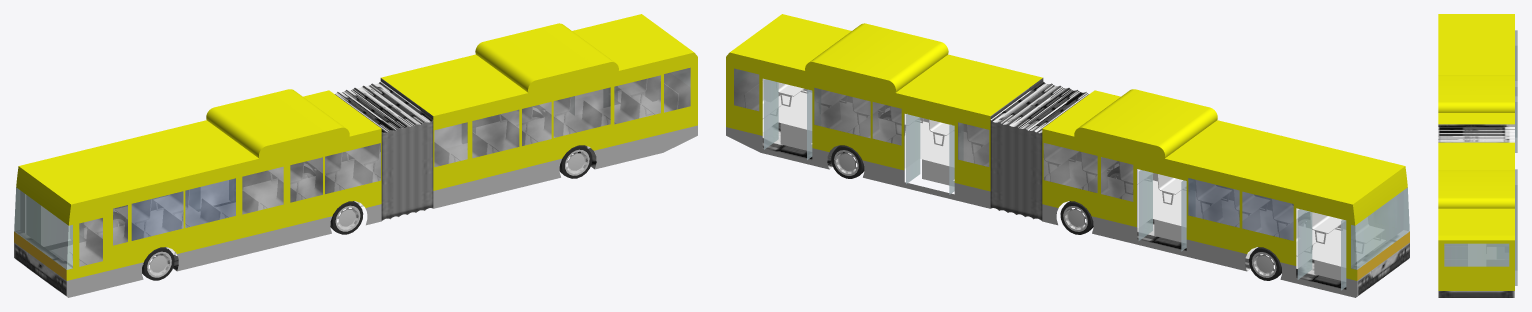
The picture shows the model from 3 angles, left to right: view 1: azimuth 30°, elevation 25°; view 2: azimuth 150°, elevation 25°; view 3: azimuth 270°, elevation 25°; orthographic projection. The views are drawn at different scales.
Parts seen in each view (by area): view 1: mesh1-geometry-0, mesh1-geometry-2, mesh1-geometry-1, mesh1-geometry-4, mesh28-geometry-0, mesh1-geometry-3, mesh1-geometry-5, mesh43-geometry-0, mesh42-geometry-0, mesh44-geometry-0, mesh34-geometry-0, mesh41-geometry-0 (+18 smaller); view 2: mesh1-geometry-0, mesh1-geometry-2, mesh1-geometry-1, mesh28-geometry-0, mesh1-geometry-4, mesh29-geometry-0, mesh1-geometry-3, mesh1-geometry-5, mesh30-geometry-0, mesh31-geometry-0, mesh33-geometry-0, mesh39-geometry-0 (+19 smaller); view 3: mesh1-geometry-0, mesh1-geometry-1, mesh1-geometry-5, mesh29-geometry-0, mesh28-geometry-0, mesh30-geometry-0, mesh4-geometry-0, mesh23-geometry-0, mesh10-geometry-0.
Boxes of the visible parts, x1,y1,x2,y2 form: mesh1-geometry-0: (16, 14, 697, 280); mesh1-geometry-2: (131, 67, 690, 240); mesh1-geometry-1: (14, 73, 690, 297); mesh1-geometry-4: (66, 125, 697, 297); mesh28-geometry-0: (52, 92, 653, 266); mesh1-geometry-3: (132, 178, 235, 240); mesh1-geometry-5: (14, 68, 689, 269); mesh43-geometry-0: (472, 109, 519, 158); mesh42-geometry-0: (614, 75, 660, 124); mesh44-geometry-0: (242, 166, 283, 214); mesh34-geometry-0: (142, 145, 592, 280); mesh41-geometry-0: (79, 218, 102, 266); mesh1-geometry-0: (726, 14, 1407, 280); mesh1-geometry-2: (734, 68, 1293, 240); mesh1-geometry-1: (734, 73, 1409, 297); mesh28-geometry-0: (762, 90, 1385, 268); mesh1-geometry-4: (726, 127, 1357, 297); mesh29-geometry-0: (764, 79, 1312, 279); mesh1-geometry-3: (1188, 178, 1293, 240); mesh1-geometry-5: (734, 69, 1409, 269); mesh30-geometry-0: (807, 88, 1354, 290); mesh31-geometry-0: (831, 145, 1281, 280); mesh33-geometry-0: (836, 152, 1274, 275); mesh39-geometry-0: (780, 123, 811, 151); mesh1-geometry-0: (1438, 14, 1514, 290); mesh1-geometry-1: (1438, 124, 1514, 297); mesh1-geometry-5: (1444, 243, 1509, 266); mesh29-geometry-0: (1497, 45, 1517, 285); mesh28-geometry-0: (1468, 244, 1496, 266); mesh30-geometry-0: (1515, 30, 1517, 269); mesh4-geometry-0: (1444, 246, 1467, 258); mesh23-geometry-0: (1444, 259, 1467, 266); mesh10-geometry-0: (1486, 259, 1508, 266).
Size of the model in its own units: 0.9758 by 0.1623 by 0.1462.
